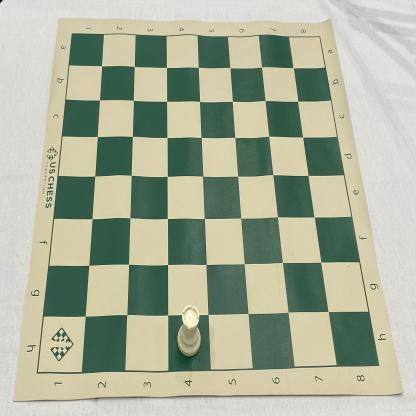white-rook: (176, 305, 201, 358)
